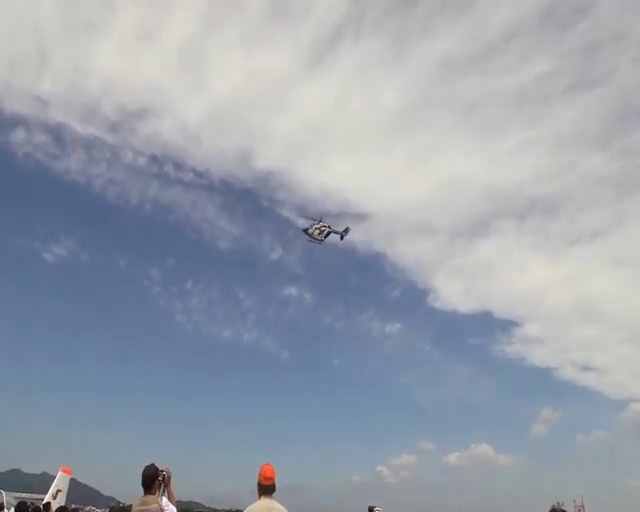HELICOPTER: (299, 211, 351, 244)
